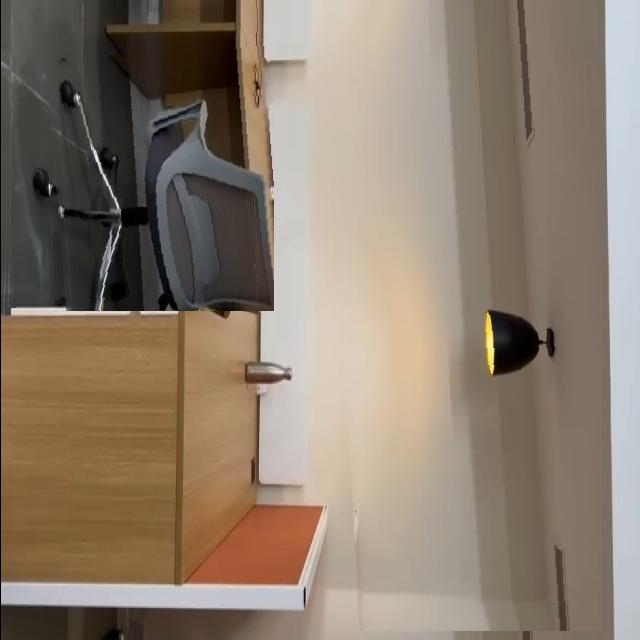floor: (0, 0, 48, 308)
furniture: (45, 38, 273, 311)
wall: (322, 0, 601, 631)
